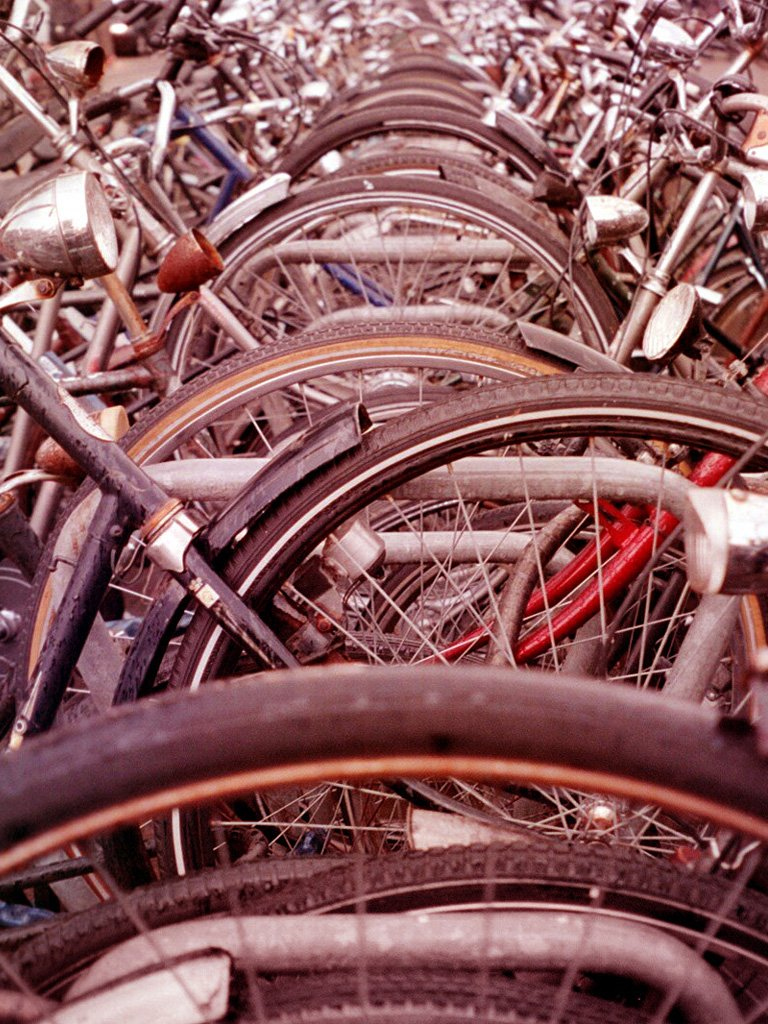Bicycle: (1, 2, 768, 1024)
